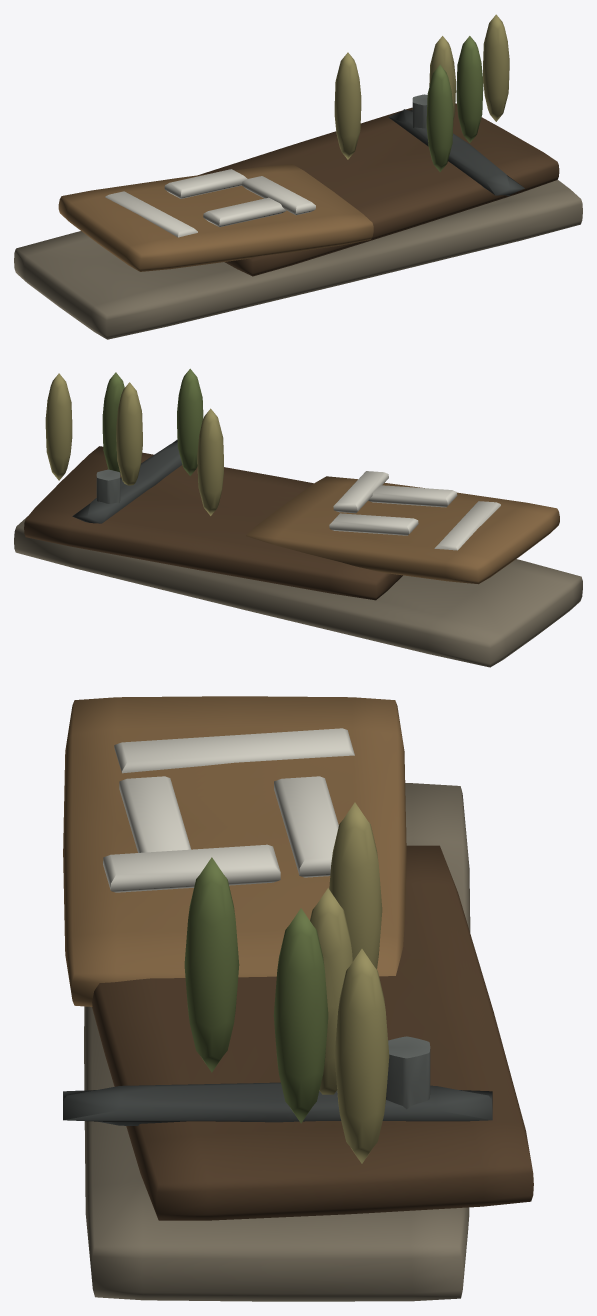
File: bent_numbers_a.glb
The picture shows the model from 3 angles, top to bottom: view 1: azimuth 30°, elevation 25°; view 2: azimuth 150°, elevation 25°; view 3: azimuth 270°, elevation 25°; orthographic projection. The views are drawn at different scales.
Parts seen in each view (by area): view 1: Surface; view 2: Surface; view 3: Surface.
Part boxes in pixels (x1,y1,x2,y2): Surface: (14,14,582,339); Surface: (14,368,582,667); Surface: (63,696,533,1301).
Size of the model in its own units: 2.6 by 0.8782 by 1.1.
